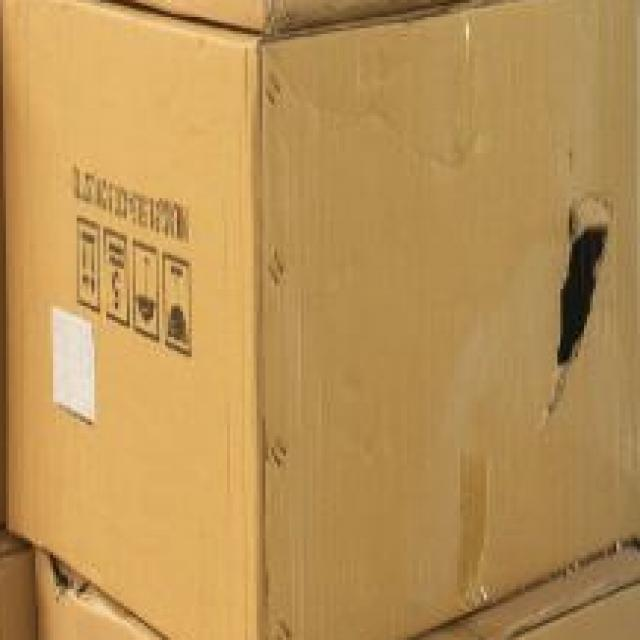hole: (542, 209, 618, 397)
